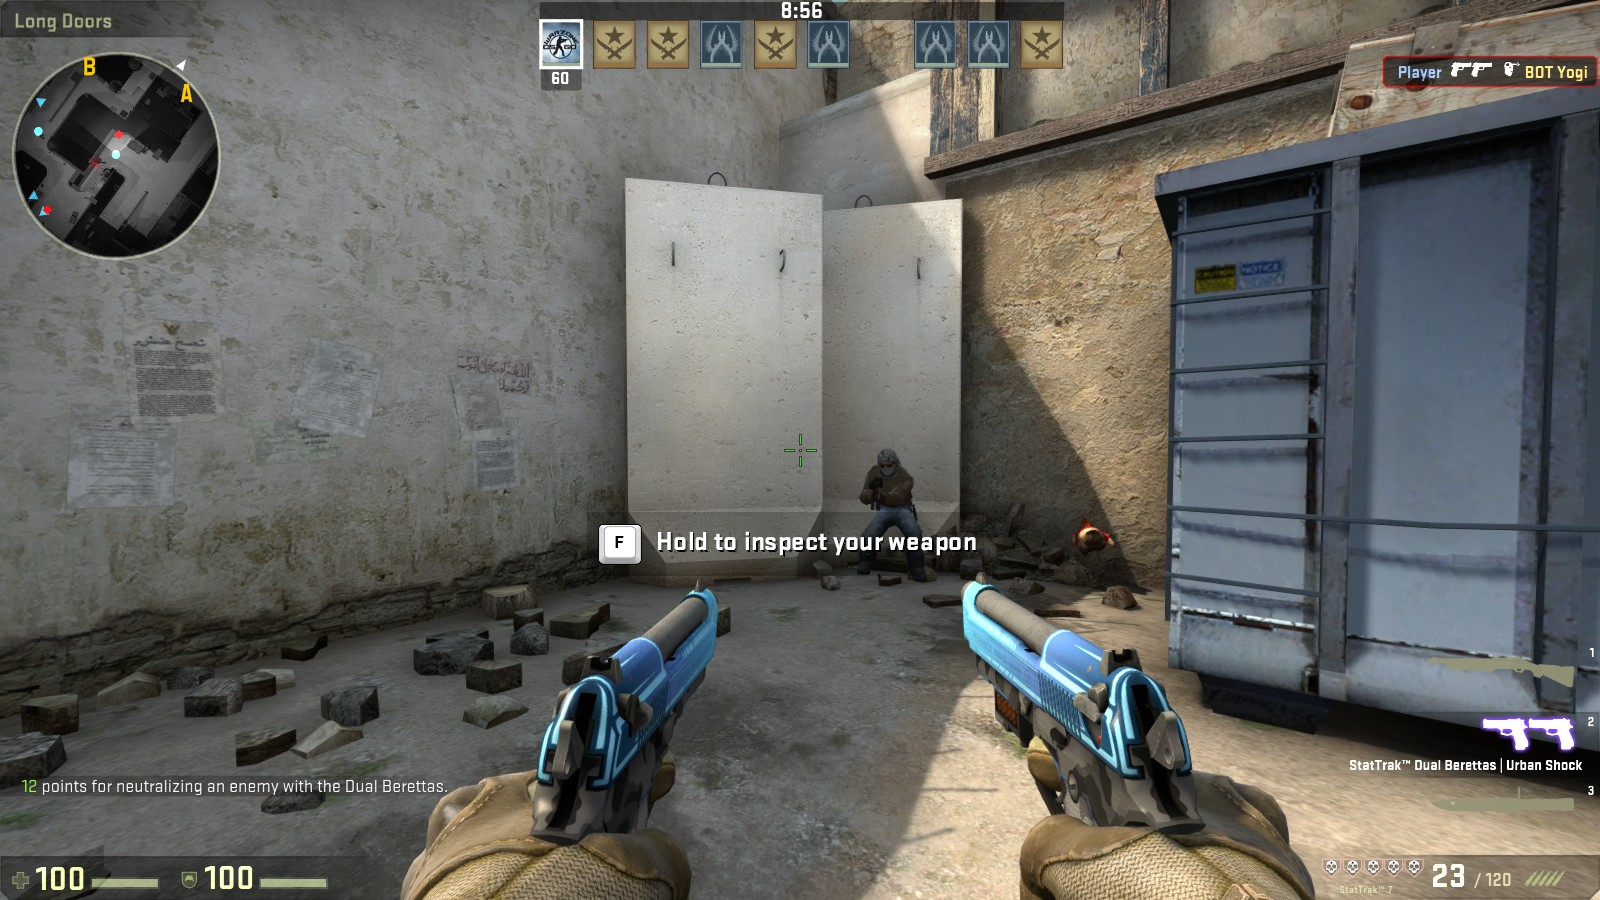t: (860, 451, 926, 580)
th: (874, 449, 902, 478)
